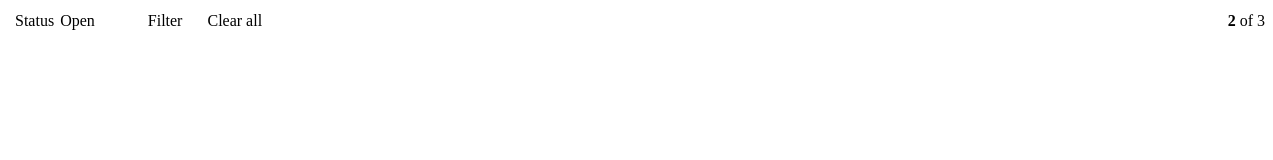
Test: FilterBar › Clear all empties the filter set
Click the button with test id "filter-bar-clear-all": point(235, 21) [200,8,270,34]
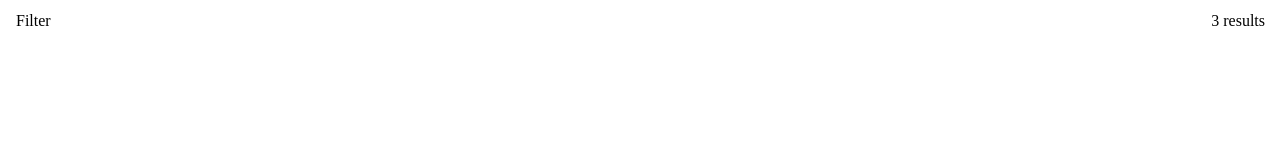
Check: the text with test id "filter-bar-summary" reads "3 results", box [1211,12,1265,29]
